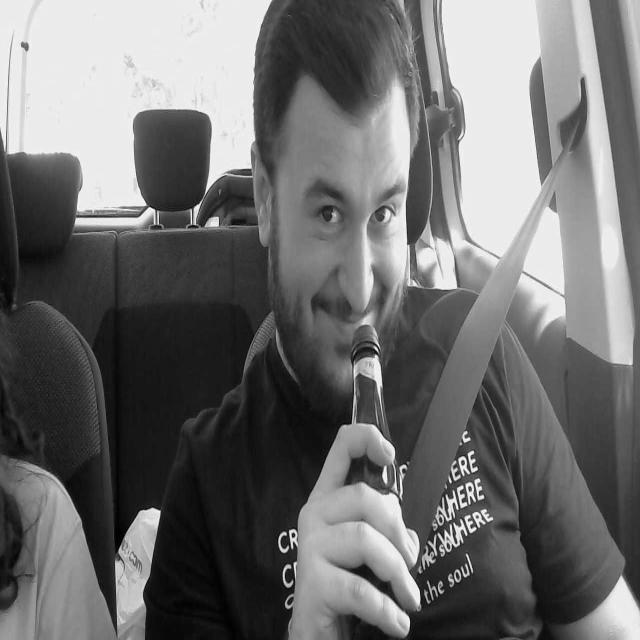Drinking: (278, 311, 435, 638)
Seatbelt: (408, 166, 528, 510)
